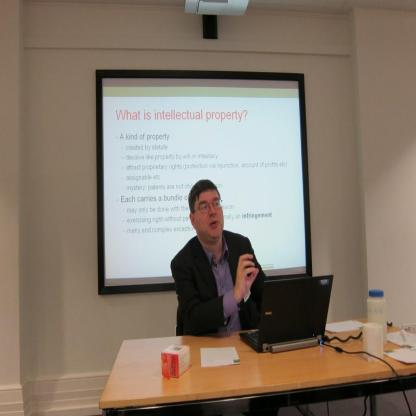board: (258, 273, 332, 357), (367, 289, 389, 346)
